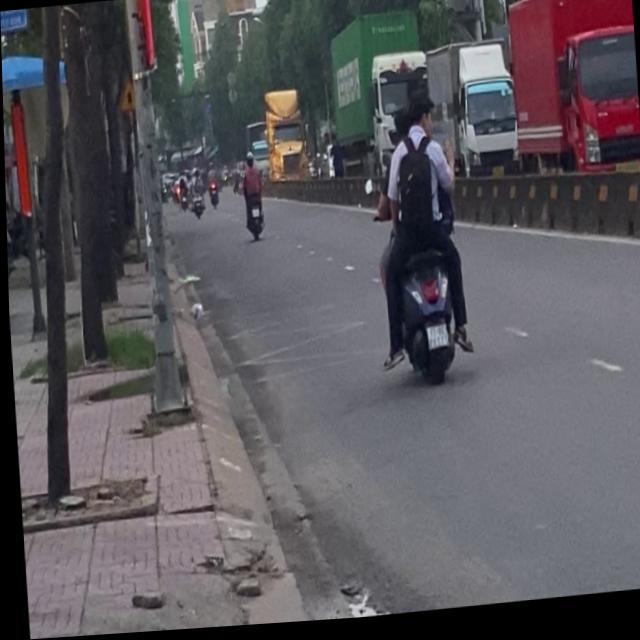licenseplate: (363, 81, 476, 395)
motorcyclist: (407, 96, 437, 142)
nohelmet: (424, 328, 446, 356)
